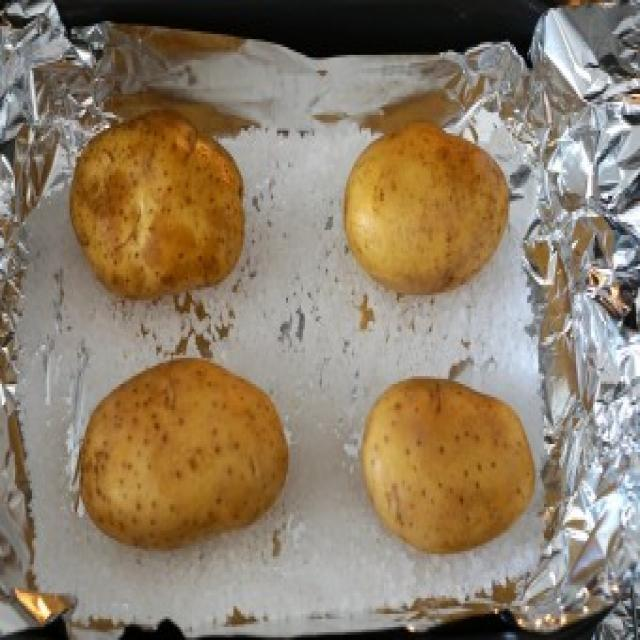potato: (77, 354, 296, 556), (71, 106, 247, 302), (358, 370, 538, 561), (340, 118, 512, 296)
